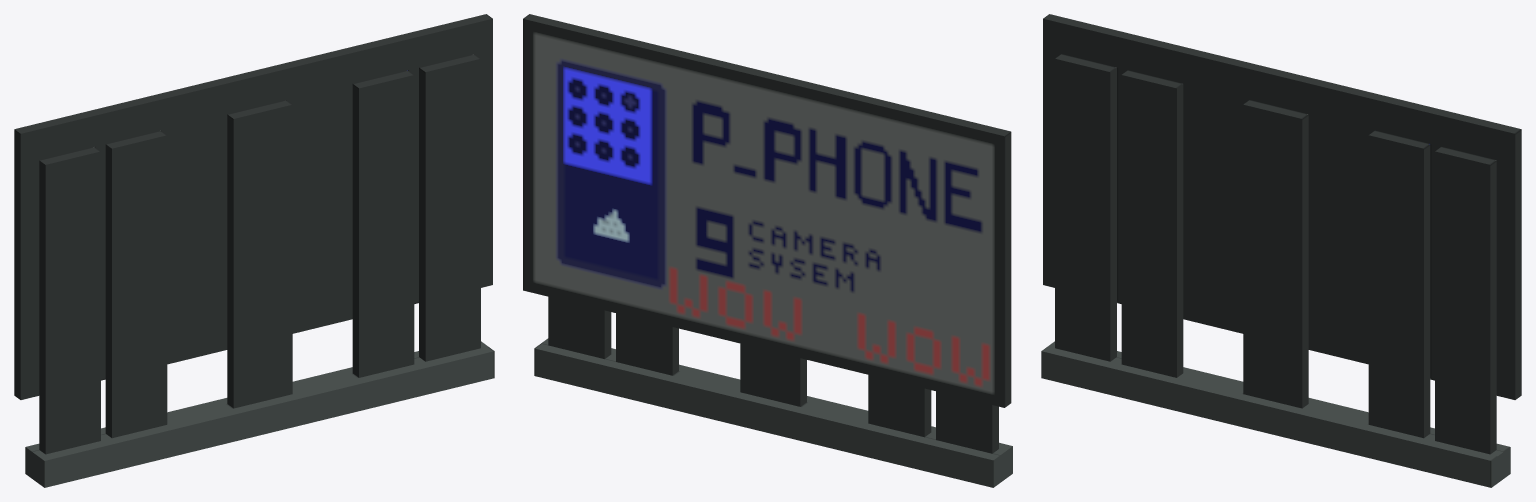
Rendered from reklama_06.dae.
3 renders of one model, left to right at view 1: azimuth 30°, elevation 25°; view 2: azimuth 150°, elevation 25°; view 3: azimuth 330°, elevation 25°, orthographic. The views are drawn at different scales.
Parts seen in each view (by area): view 1: Content; view 2: Content; view 3: Content.
Boxes of the visible parts, x1,y1,x2,y2 form: Content: (14,14,494,487); Content: (523,14,1012,487); Content: (1041,14,1521,487).
Bounding box in the file's own units: 128 × 90 × 9.
Materials: 1 (1 with a texture image).
